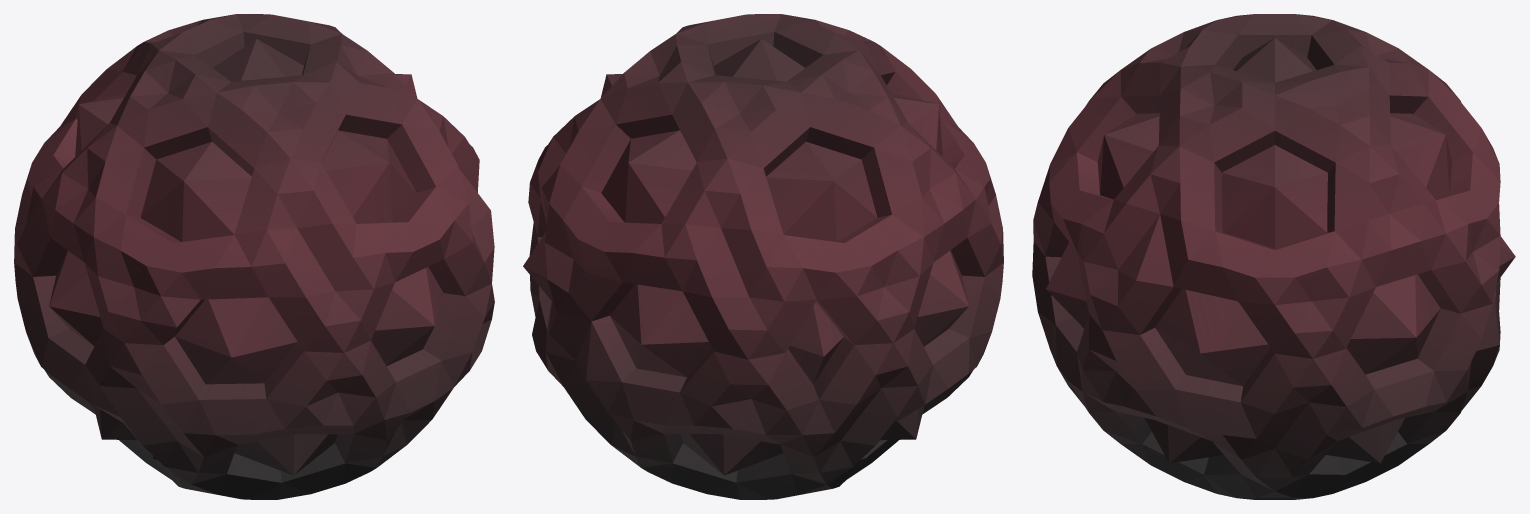
File: Rocky_Planet_01.FBX
3 views of the same model, side by side, from view 1: azimuth 30°, elevation 25°; view 2: azimuth 150°, elevation 25°; view 3: azimuth 270°, elevation 25° (orthographic).
Visible parts, largest first — view 1: Planet; view 2: Planet; view 3: Planet.
Boxes of the visible parts, <box> form: Planet: <box>14,14,494,499</box>; Planet: <box>523,14,1003,499</box>; Planet: <box>1032,14,1515,499</box>.
Size of the model in its own units: 118 by 117 by 118.
Materials: 1 (1 with a texture image).
